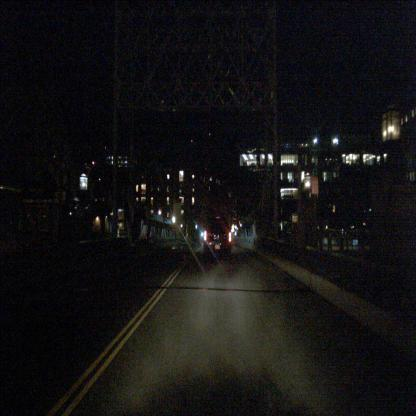vehicle-car: (203, 216, 232, 257)
